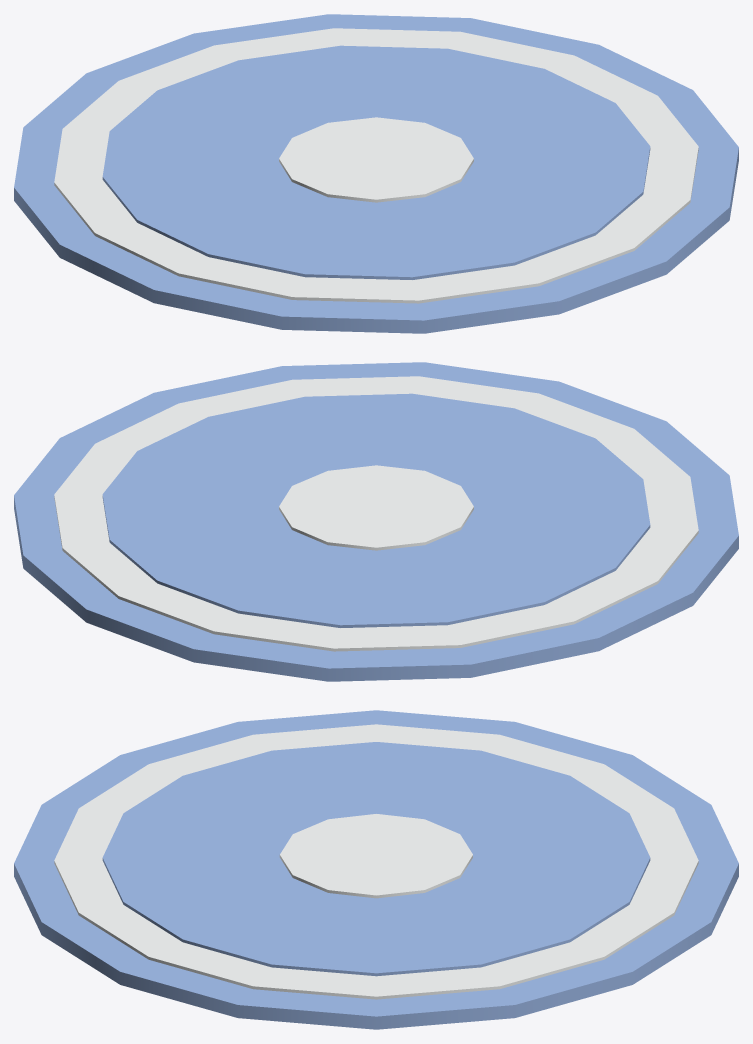
The model's file is yogaMatRound.glb.
The picture shows the model from 3 angles, top to bottom: view 1: azimuth 30°, elevation 25°; view 2: azimuth 150°, elevation 25°; view 3: azimuth 270°, elevation 25°; orthographic projection.
Parts seen in each view (by area): view 1: yogaMatRound; view 2: yogaMatRound; view 3: yogaMatRound.
Part boxes in pixels (x1=…): yogaMatRound: x1=14, y1=14, x2=738, y2=333; yogaMatRound: x1=14, y1=362, x2=738, y2=681; yogaMatRound: x1=14, y1=710, x2=738, y2=1029.
Bounding box in the file's own units: 0.45 × 0.015 × 0.45.
